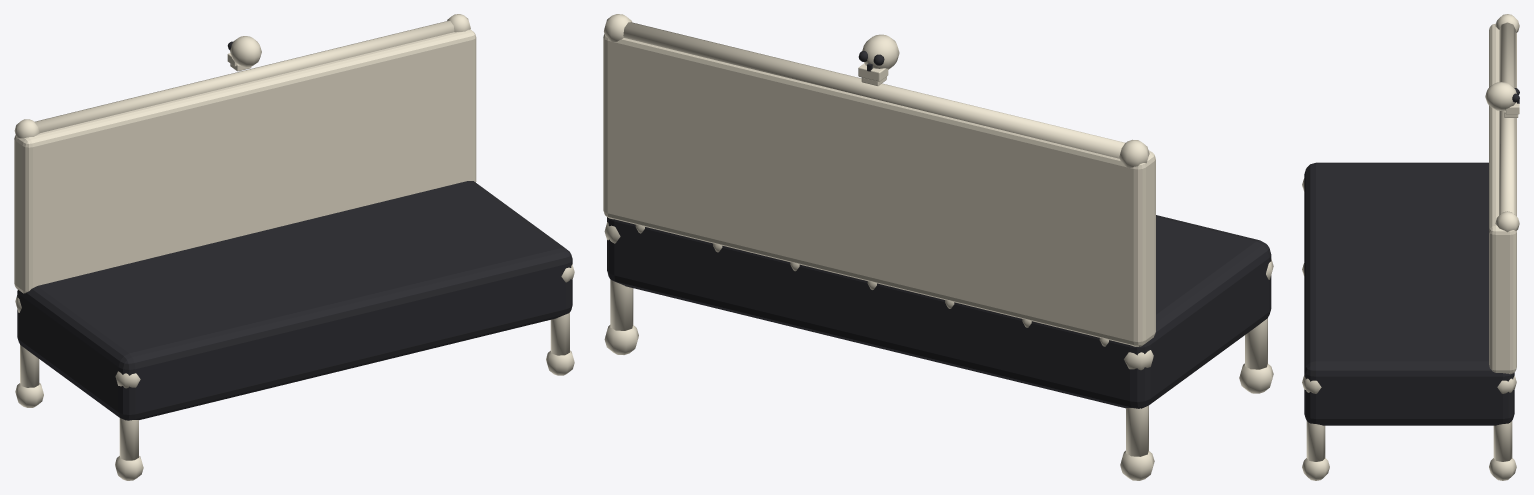
The model's file is chaise_bone.glb.
3 renders of one model, left to right at view 1: azimuth 30°, elevation 25°; view 2: azimuth 150°, elevation 25°; view 3: azimuth 270°, elevation 25°, orthographic. The views are drawn at different scales.
Visible parts, largest first — view 1: GD_chaise_bone__m1, GD_chaise_bone__m0; view 2: GD_chaise_bone__m1, GD_chaise_bone__m0; view 3: GD_chaise_bone__m0, GD_chaise_bone__m1.
Boxes of the visible parts, x1,y1,x2,y2 form: GD_chaise_bone__m1: (14,14,574,480); GD_chaise_bone__m0: (17,41,572,420); GD_chaise_bone__m1: (603,14,1273,480); GD_chaise_bone__m0: (607,51,1271,408); GD_chaise_bone__m0: (1304,88,1519,425); GD_chaise_bone__m1: (1302,14,1519,480).
Size of the model in its own units: 2.12 by 1.41 by 0.9332.
